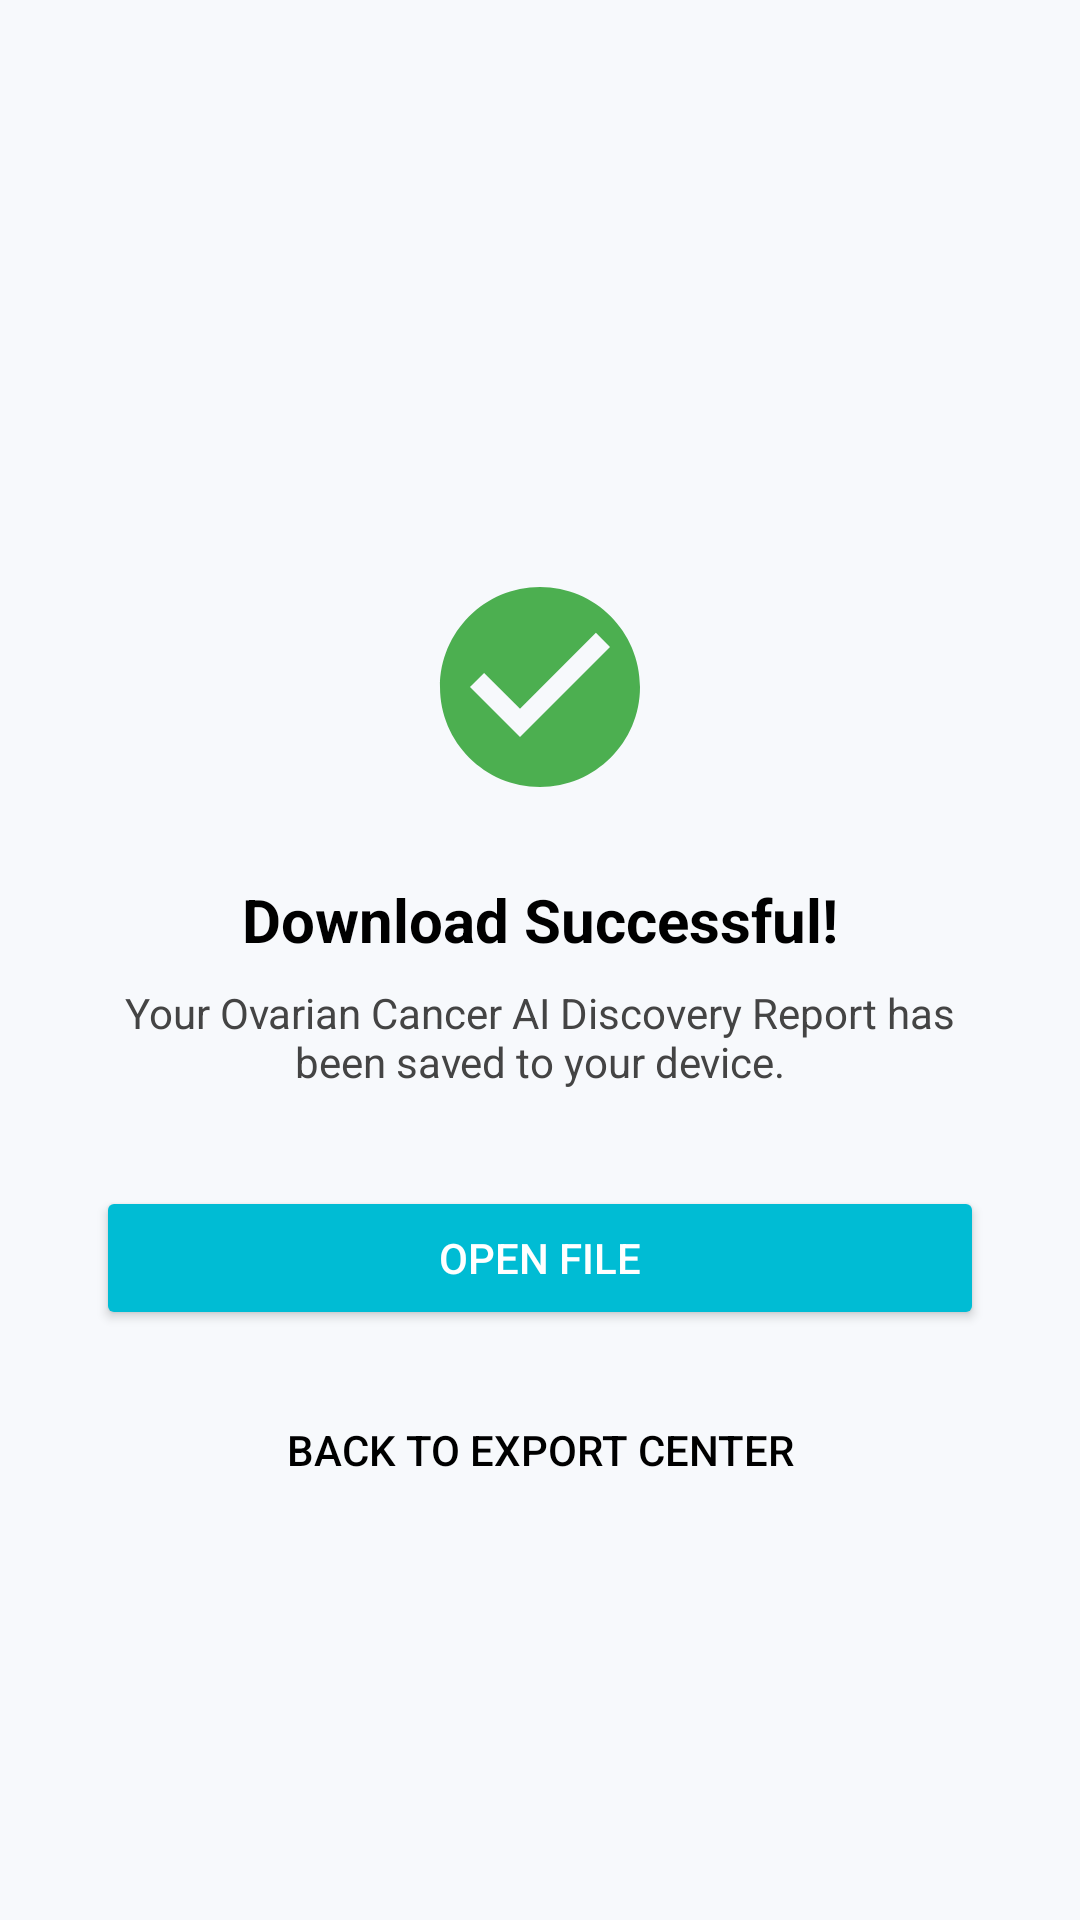

Where to tap for icons on this 1080*1920 app screen, as (x=x, y=y):
check circle: (x=540, y=687)
